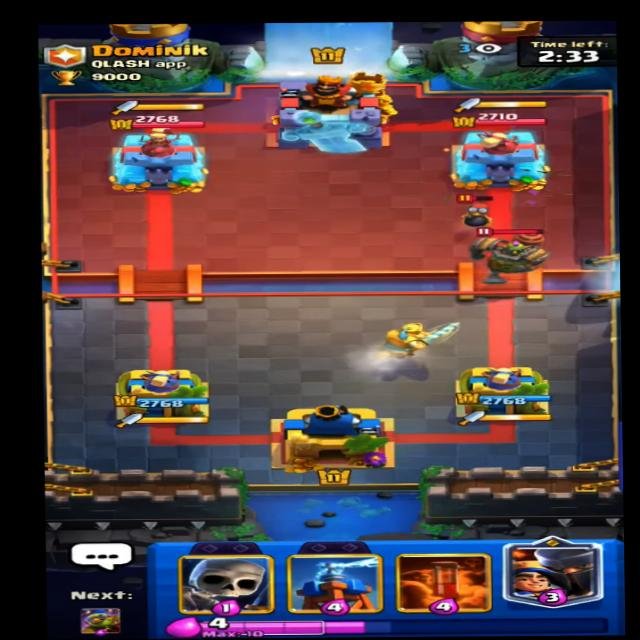bomber: (451, 190, 504, 231)
goblin-machine: (454, 228, 562, 283)
